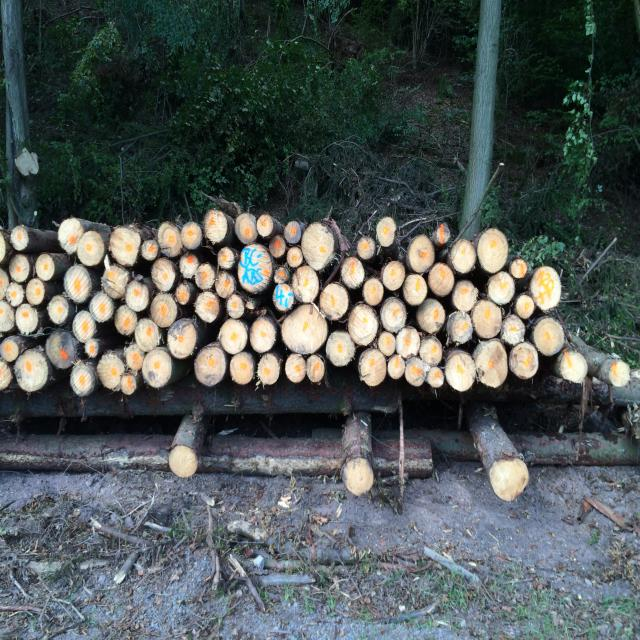wood-log: (281, 303, 328, 353), (488, 455, 530, 504), (238, 244, 274, 296), (301, 222, 336, 271), (475, 340, 508, 387), (15, 349, 50, 392), (530, 266, 562, 313), (478, 229, 509, 274), (109, 227, 142, 268), (347, 303, 378, 346), (445, 351, 477, 392), (532, 318, 564, 357), (195, 346, 227, 385), (144, 347, 174, 388), (46, 331, 77, 370), (321, 282, 352, 320), (472, 300, 503, 338), (98, 352, 128, 391), (342, 458, 373, 495), (168, 321, 198, 359), (408, 234, 437, 273), (327, 332, 358, 368), (78, 231, 108, 268), (65, 264, 93, 303), (510, 341, 539, 378), (293, 265, 321, 303), (557, 349, 587, 384), (220, 320, 250, 355), (102, 265, 132, 300), (417, 299, 446, 334), (360, 348, 388, 384), (168, 446, 199, 478), (135, 316, 162, 352), (249, 318, 276, 354), (59, 219, 86, 255), (428, 264, 456, 298), (450, 241, 477, 276), (203, 210, 228, 247), (152, 295, 179, 329), (488, 272, 516, 304), (452, 279, 480, 311), (381, 298, 407, 332), (151, 259, 177, 293), (70, 361, 94, 397), (195, 292, 222, 324), (502, 316, 528, 348), (158, 224, 182, 258), (73, 308, 97, 342), (404, 274, 429, 306), (342, 258, 367, 290), (115, 304, 140, 336), (448, 311, 472, 344), (382, 261, 408, 291), (126, 281, 151, 312), (398, 327, 422, 359), (259, 352, 283, 384), (49, 295, 73, 327), (16, 304, 40, 336), (92, 292, 116, 322), (8, 253, 32, 283), (231, 354, 254, 385), (420, 337, 443, 368), (236, 213, 257, 245), (606, 360, 630, 388), (378, 214, 398, 246), (364, 278, 386, 306), (286, 354, 306, 383), (196, 264, 218, 290), (407, 360, 428, 387), (179, 252, 199, 280), (0, 337, 22, 362), (27, 277, 47, 304), (35, 255, 55, 282), (274, 286, 294, 313), (214, 270, 233, 298), (377, 332, 397, 358), (181, 223, 200, 250), (0, 301, 15, 335), (516, 294, 535, 320), (10, 226, 29, 252), (309, 355, 326, 384), (268, 235, 288, 259), (510, 258, 530, 280), (357, 237, 376, 260), (6, 282, 25, 305), (228, 296, 246, 320), (258, 213, 276, 237), (434, 222, 453, 244), (388, 353, 404, 378), (218, 247, 235, 270), (174, 282, 191, 305), (0, 358, 12, 390), (123, 373, 139, 396), (285, 222, 301, 245), (142, 240, 158, 262), (428, 366, 444, 387), (286, 246, 301, 268), (0, 269, 9, 303), (86, 339, 102, 358), (0, 230, 8, 263)
